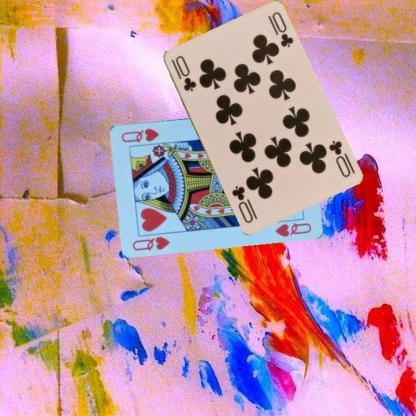10c: (168, 53, 198, 93), (325, 138, 352, 178)
Qh: (130, 233, 171, 252)
